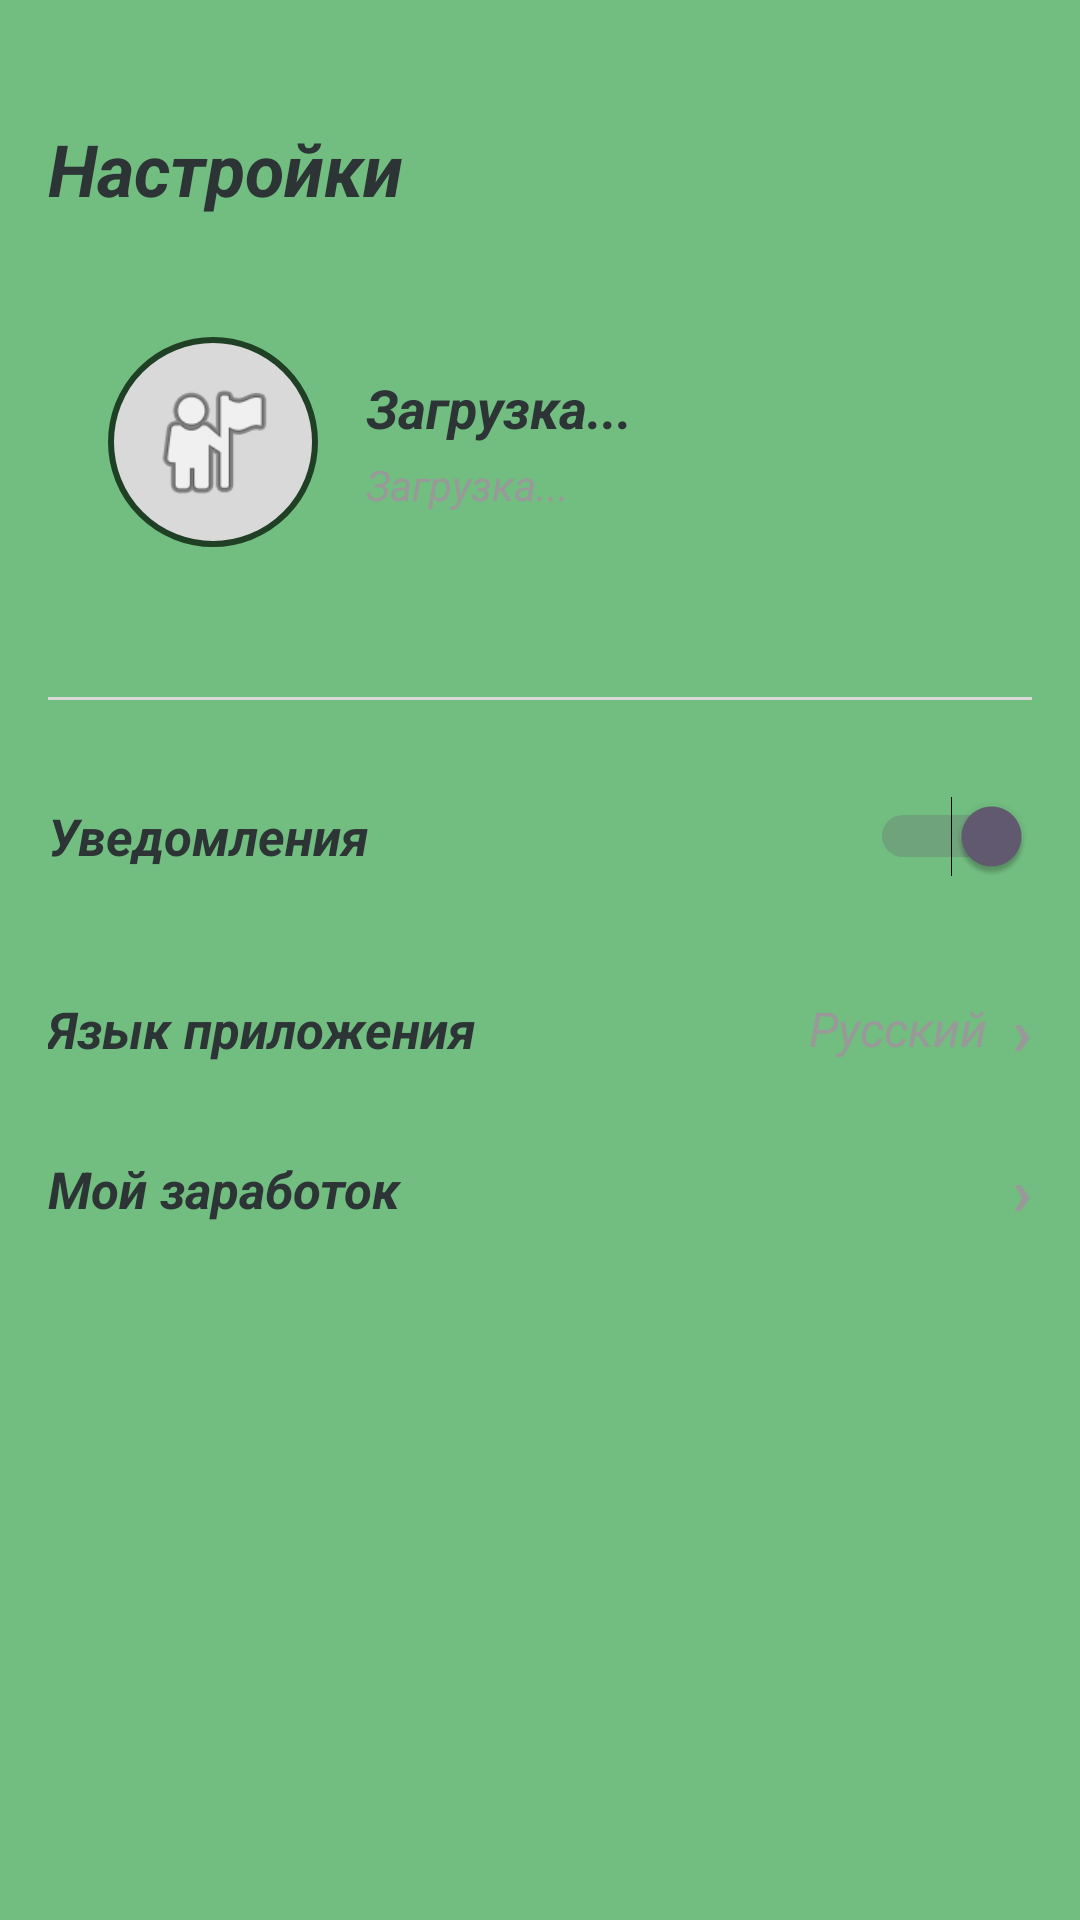

Screen size 1080x1920. Icon name, then its center in pixels as (x,y):
myplaces: (213,442)
